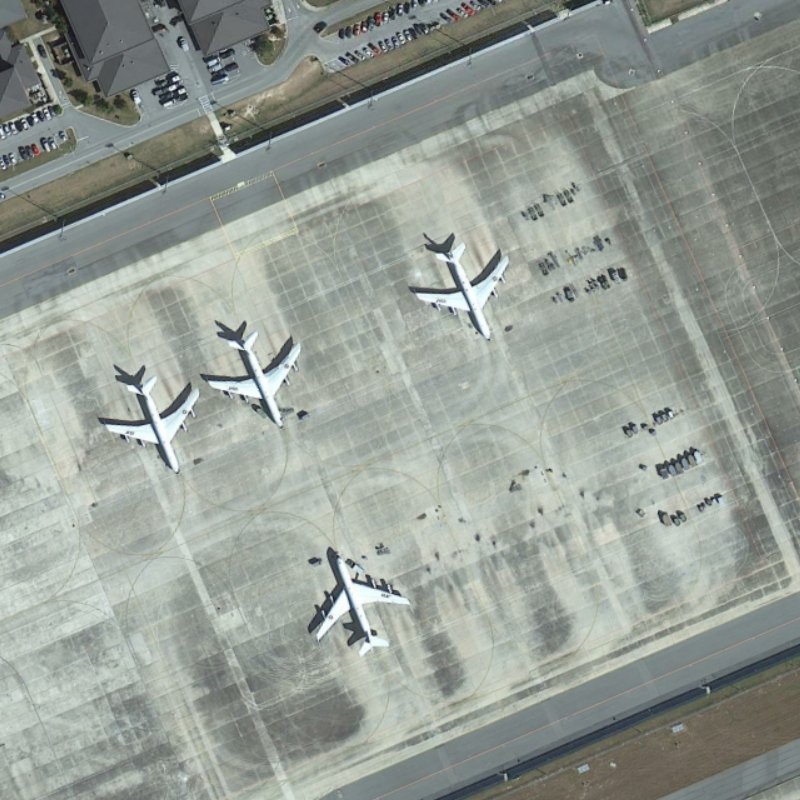A11: (310, 544, 414, 658), (205, 327, 308, 434), (409, 238, 512, 344), (100, 372, 202, 476)
